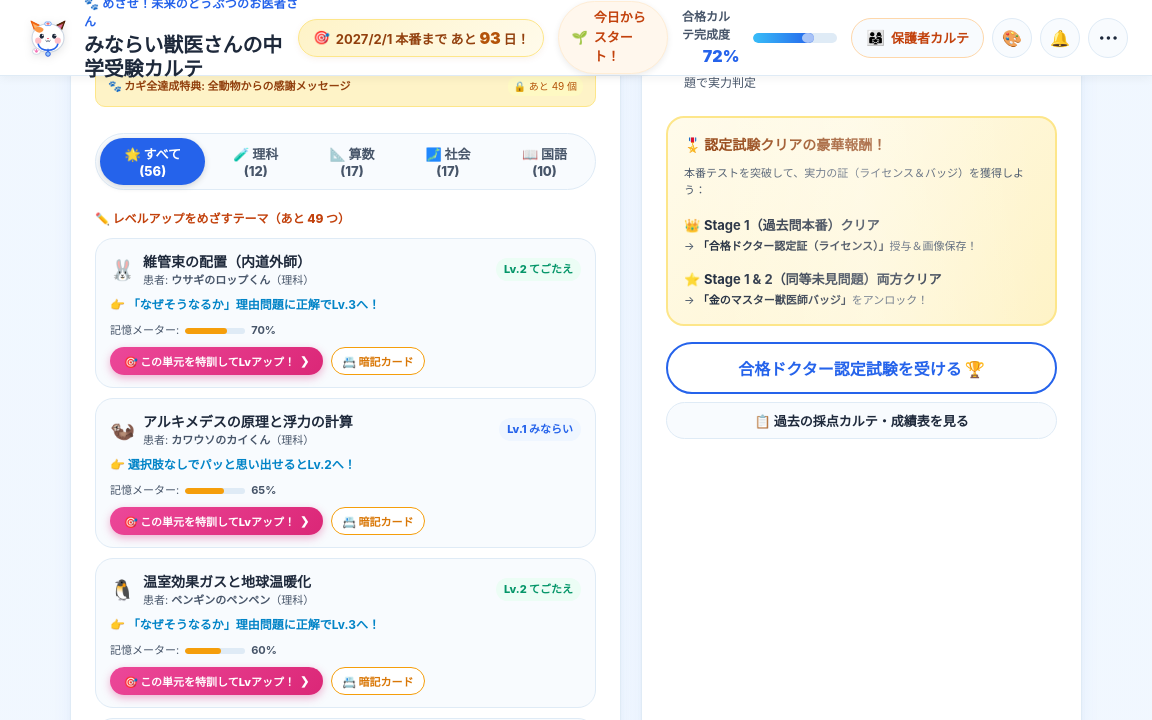
Skill Focus & Level Promotion Flow › allows starting focus study directly from the back of the flashcard
This screenshot has width=1152, height=720.
(page scrolled)
# 暗記カードを開く
What coordinates should you click on to do the following:
click the button with test id "quick-flash-btn-skill-rika-plant-vascular"
I would click on:
 (378, 361)
Its box is [331,347,425,375].
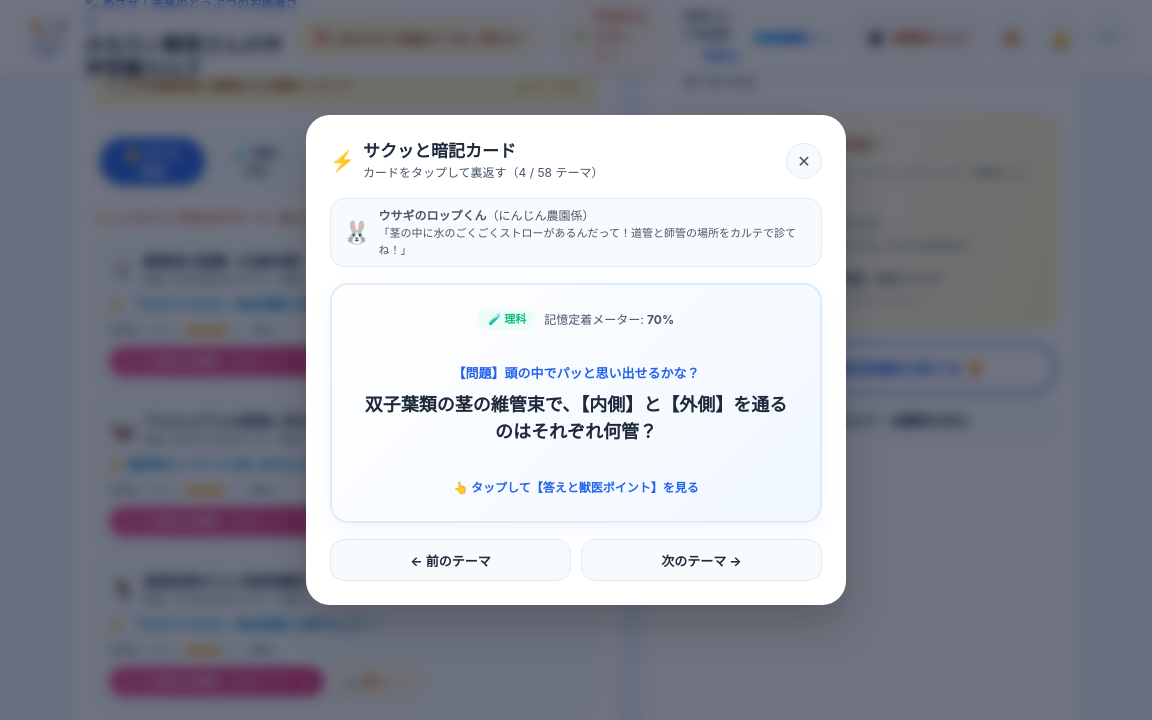
Check: the element with test id "flashcard-modal" is shown
# カードをタップして裏返す
What coordinates should you click on to do the following:
click the text "👆 タップして【答えと獣医ポイント】を見る"
I would click on:
 (576, 488)
Its box is [453,480,699,495].
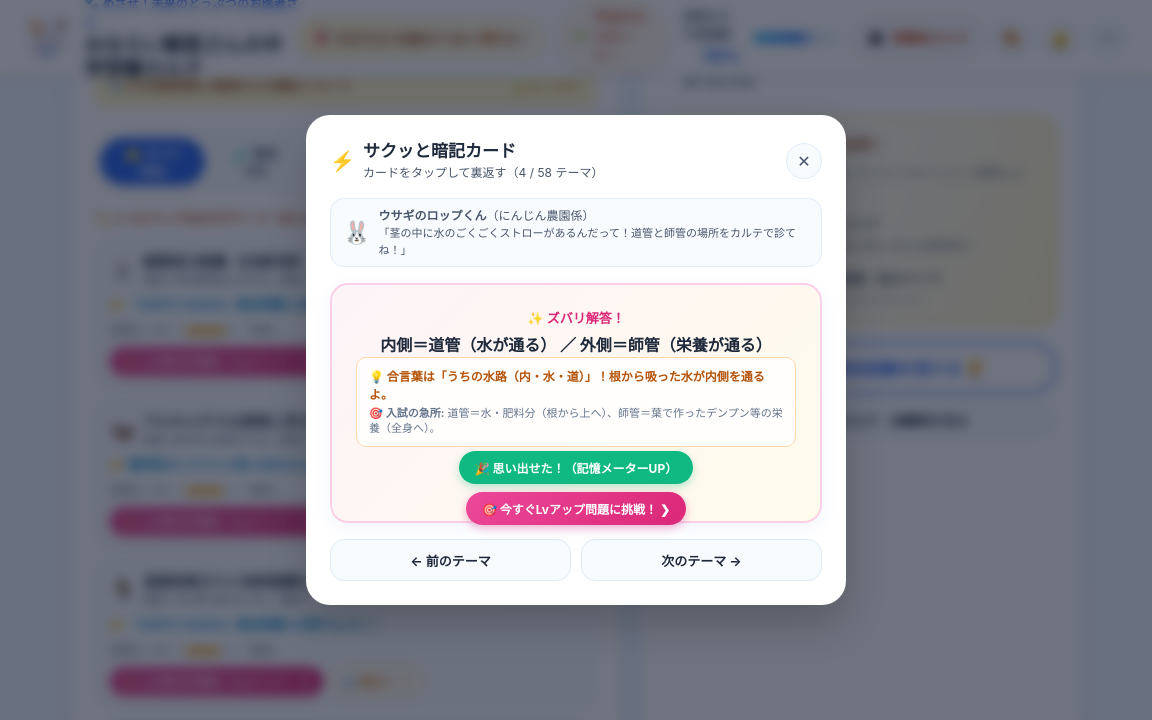
Check: the button with test id "flashcard-start-focus-btn" is shown
# クリックするとモーダルが閉じて学習画面へ遷移する
What coordinates should you click on to do the following:
click the button with test id "flashcard-start-focus-btn"
I would click on:
 (576, 509)
Its box is [466,492,686,526].
(page scrolled)
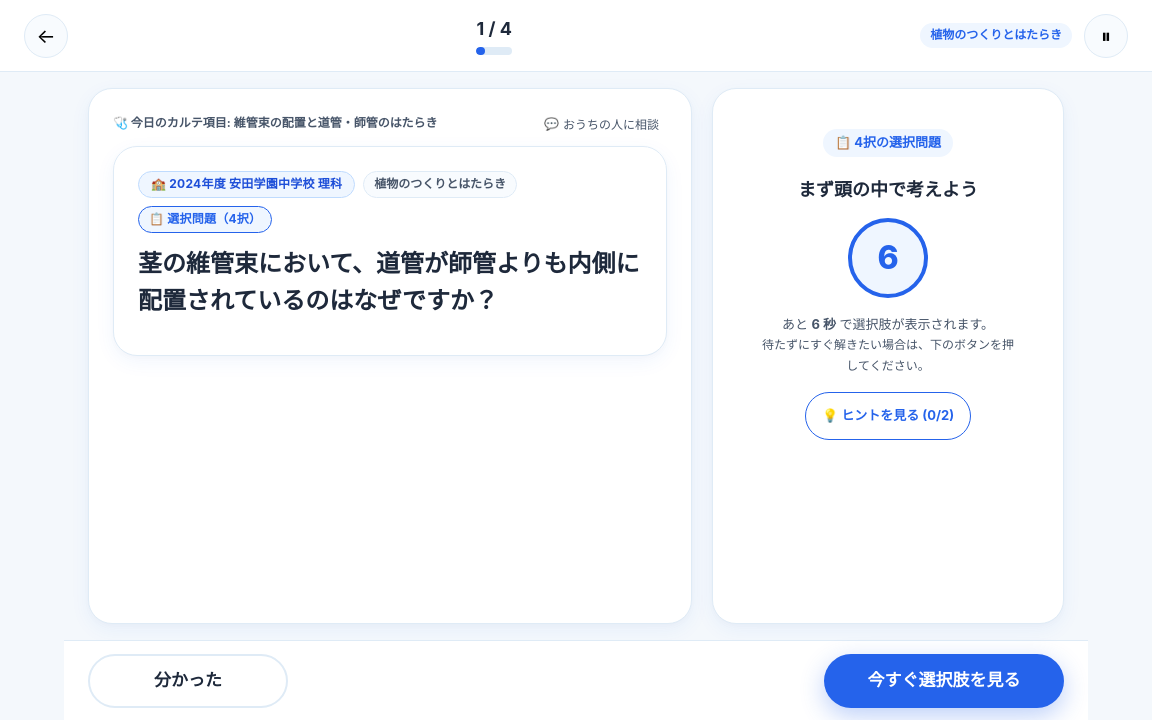
Check: the element with test id "flashcard-modal" is gone
Check: the element with test id "study-page" is shown
